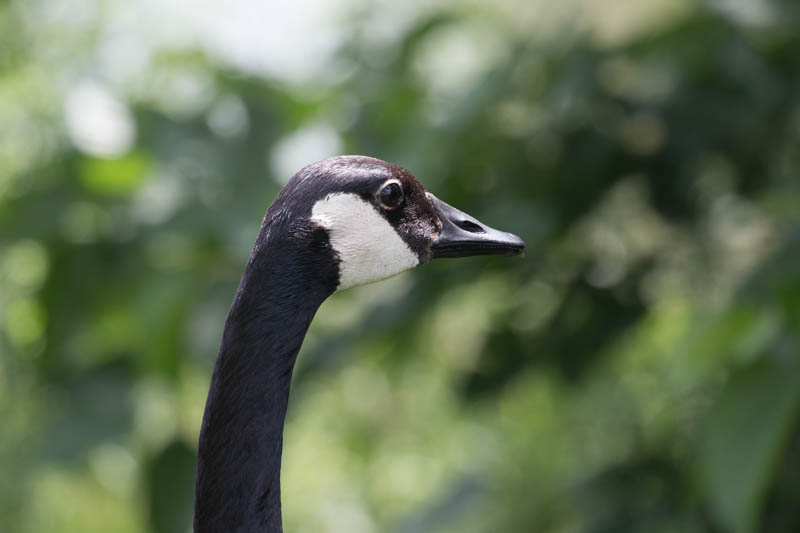goose-head: (242, 154, 526, 293)
